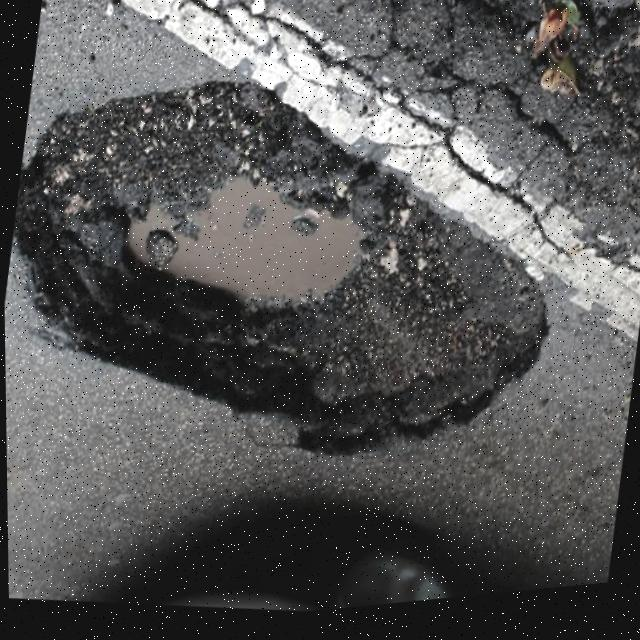Pothole: (1, 44, 592, 523), (392, 0, 640, 160)
